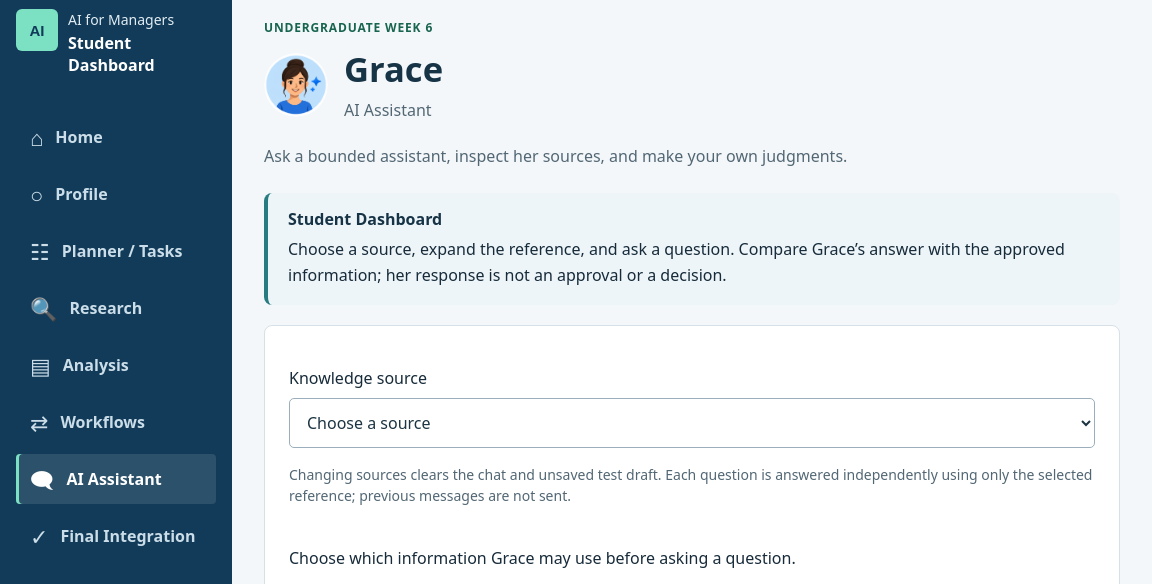
Test: Week 6 Grace › shows an error with no fabricated answer for http failure
The image size is (1152, 584).
(page scrolled)
Select "Coastal Life Employee Information" in the dropdown labelled "Knowledge source" at (692, 423), box top-left (289, 398), bottom-right (1095, 448)
(page scrolled)
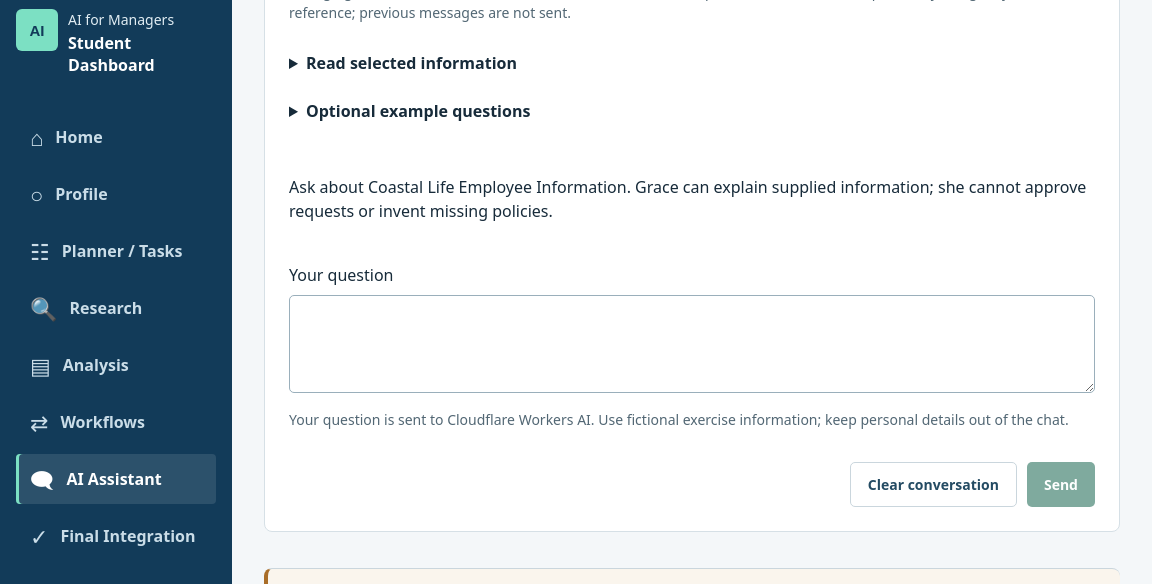
Type "PTO?" into the text box labelled "Your question".
click(692, 344); type("PTO?")  # box top-left (289, 295), bottom-right (1095, 393)
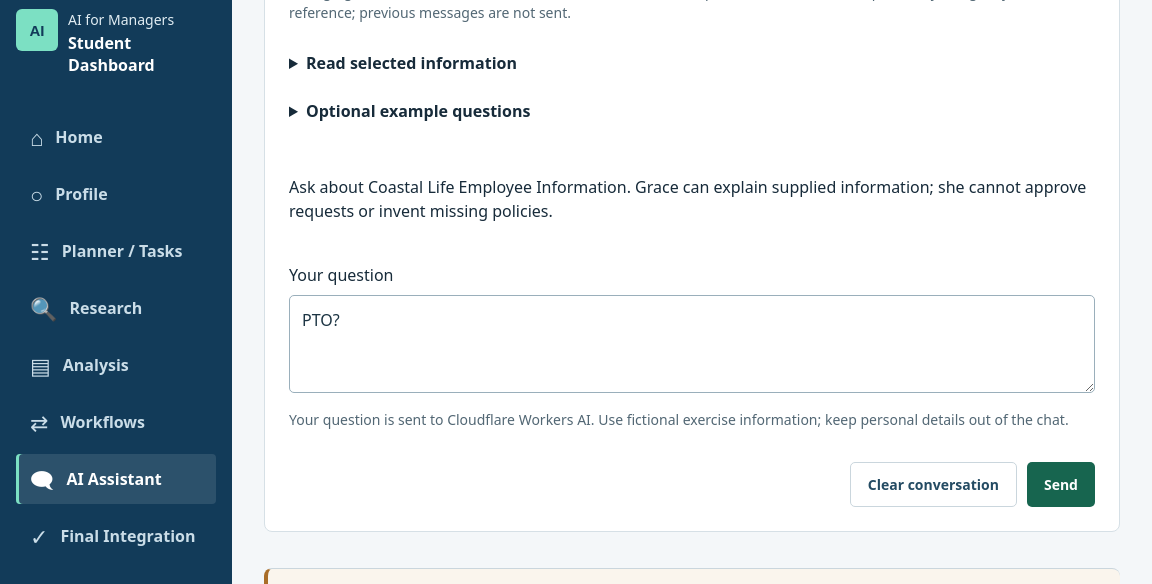
Click the button "Send".
click(1061, 484)  # box top-left (1027, 462), bottom-right (1095, 507)
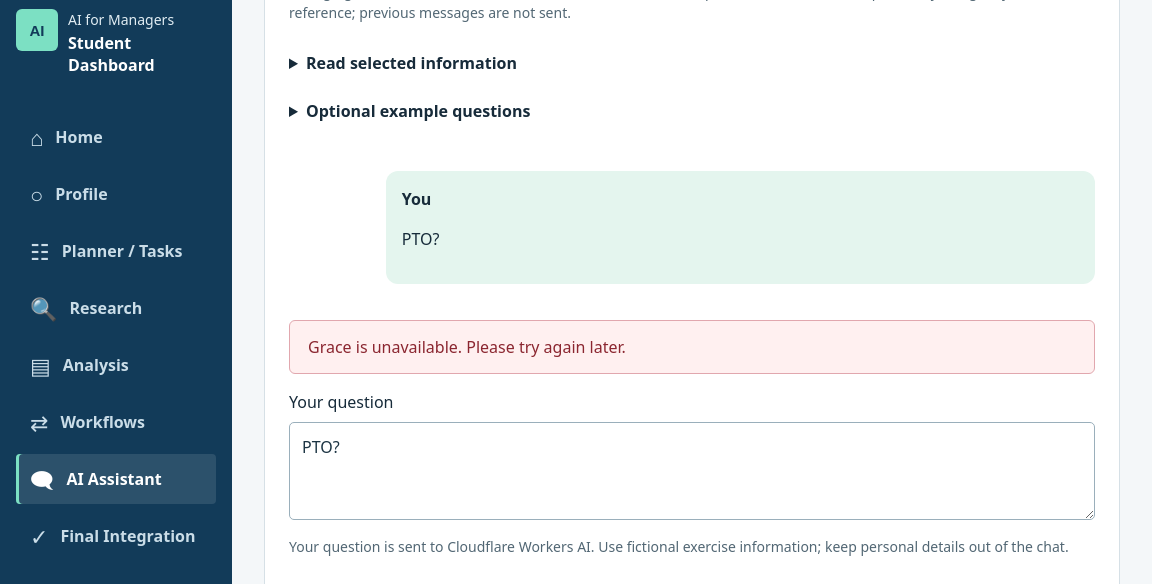
Now the message "Grace is unavailable. Please try again later." is shown, box top-left (289, 320), bottom-right (1095, 374)
